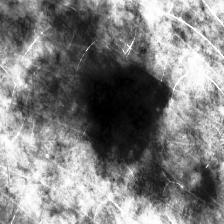Benign Marking or Mole: (84, 64, 173, 165)
